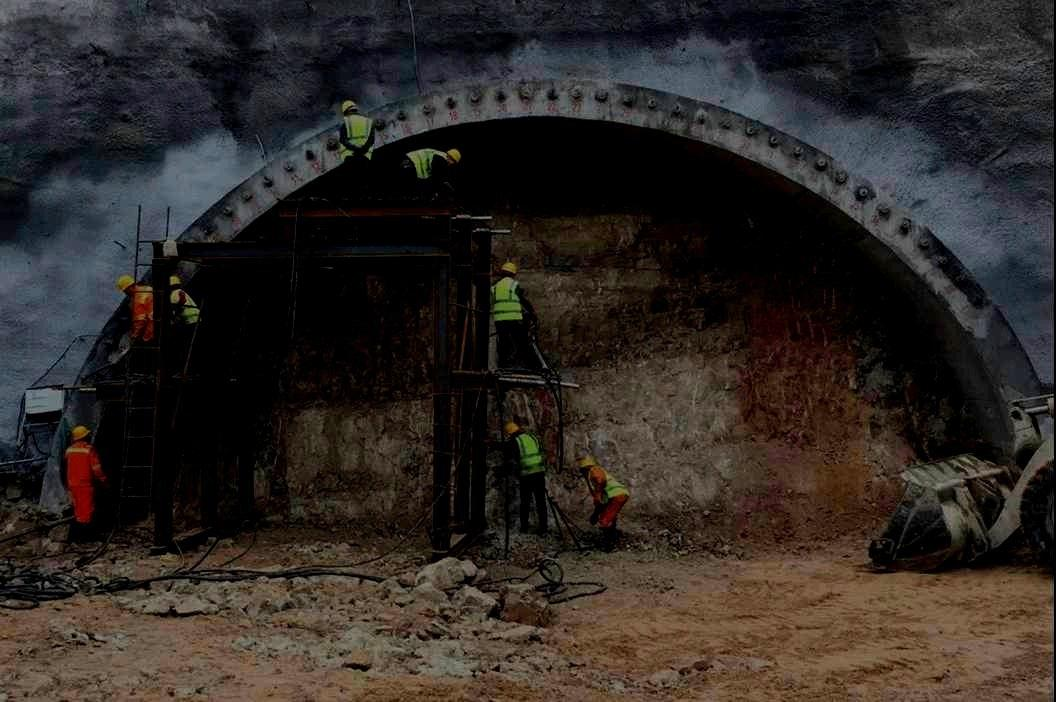helmet: (117, 275, 136, 297), (71, 426, 91, 444), (445, 148, 461, 168), (500, 262, 517, 279), (503, 422, 521, 438), (579, 460, 595, 478), (341, 99, 358, 115), (168, 275, 182, 291)
